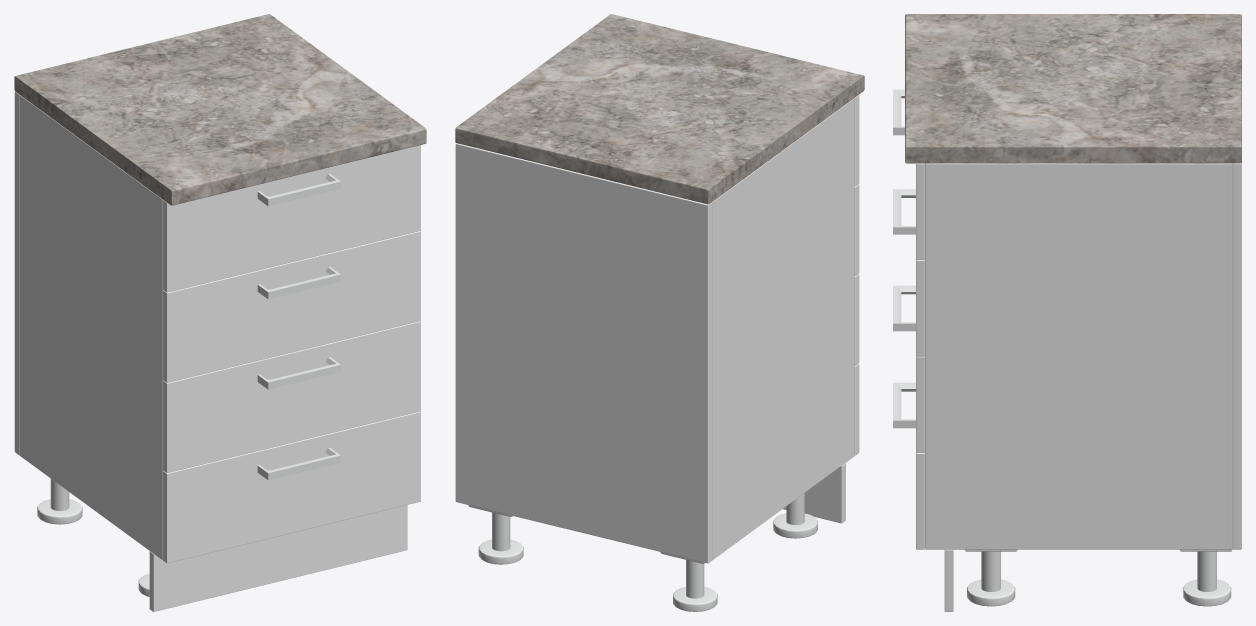
File: cabinet_base_drawers.gltf
3 renders of one model, left to right at view 1: azimuth 30°, elevation 25°; view 2: azimuth 150°, elevation 25°; view 3: azimuth 270°, elevation 25°, orthographic. The views are drawn at different scales.
Parts seen in each view (by area): view 1: Object_4, Object_3, Object_2, Object_6, Object_5, Object_7; view 2: Object_3, Object_2, Object_7, Object_4, Object_6; view 3: Object_3, Object_2, Object_4, Object_7, Object_5, Object_6.
Boxes of the visible parts, x1,y1,x2,y2 form: Object_4: (163, 145, 420, 563); Object_3: (14, 92, 163, 559); Object_2: (14, 14, 426, 205); Object_6: (149, 505, 407, 611); Object_5: (257, 174, 340, 480); Object_7: (37, 479, 149, 596); Object_3: (455, 98, 854, 563); Object_2: (455, 14, 864, 204); Object_7: (478, 493, 817, 611); Object_4: (854, 95, 859, 455); Object_6: (783, 463, 845, 523); Object_3: (925, 162, 1241, 549); Object_2: (905, 14, 1241, 163); Object_4: (916, 163, 925, 549); Object_7: (967, 551, 1231, 606); Object_5: (893, 89, 915, 428); Object_6: (944, 549, 953, 611).
Bounding box in the file's own units: 55.98 × 91.47 × 62.13.
7 materials, 7 textured.
